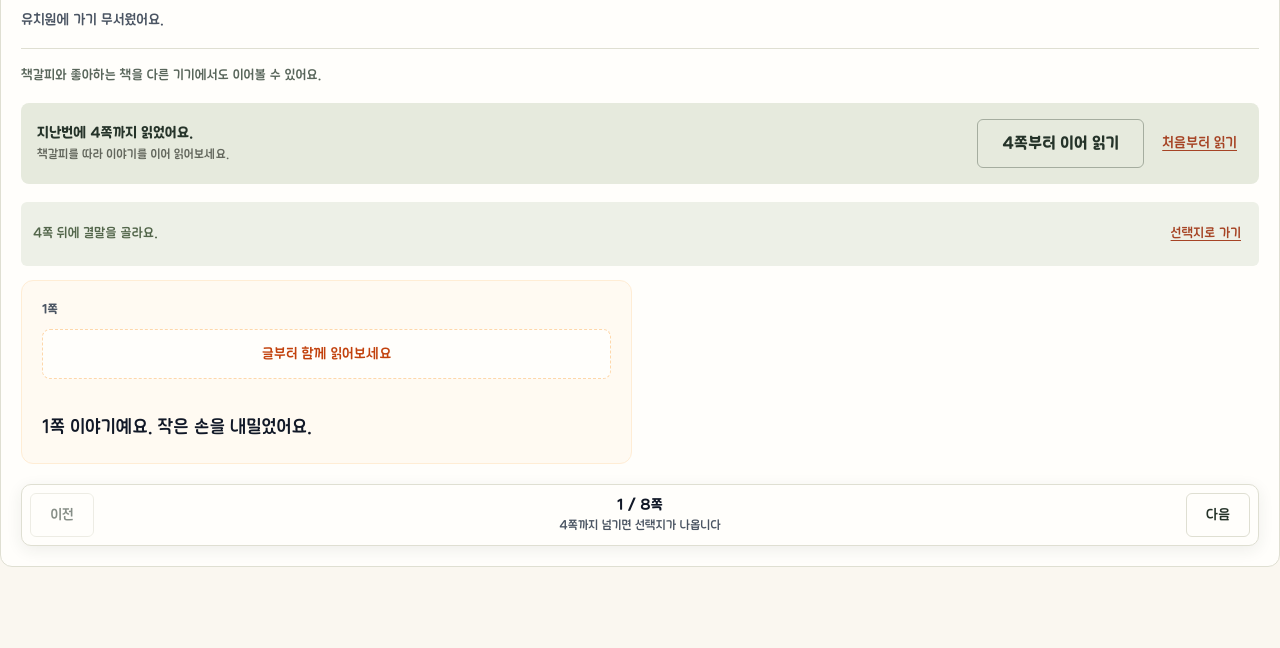
Test case: private reading preferences › returns an unfinished four-page book to its choice page
This screenshot has width=1280, height=648.
Step 1. Click the button "4쪽부터 이어 읽기" → [1061, 143], box x1=977 y1=119 x2=1144 y2=168
(page scrolled)
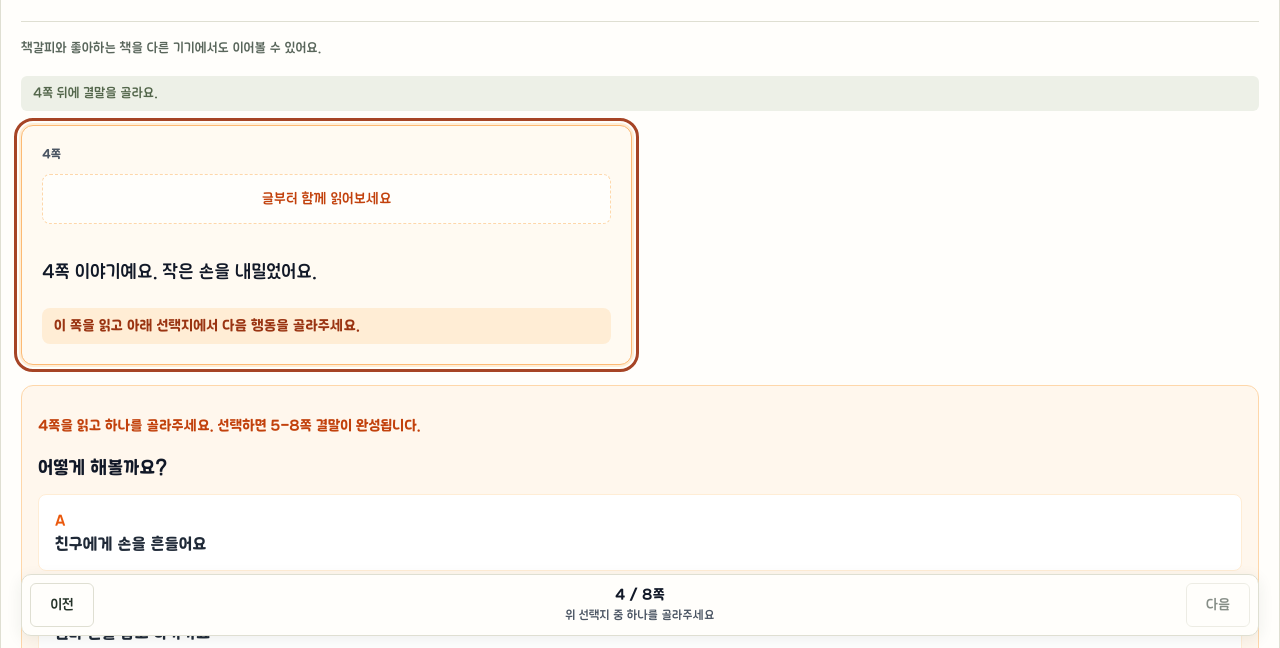
Check: the heading "어떻게 해볼까요?" is shown, box x1=38 y1=458 x2=167 y2=478
